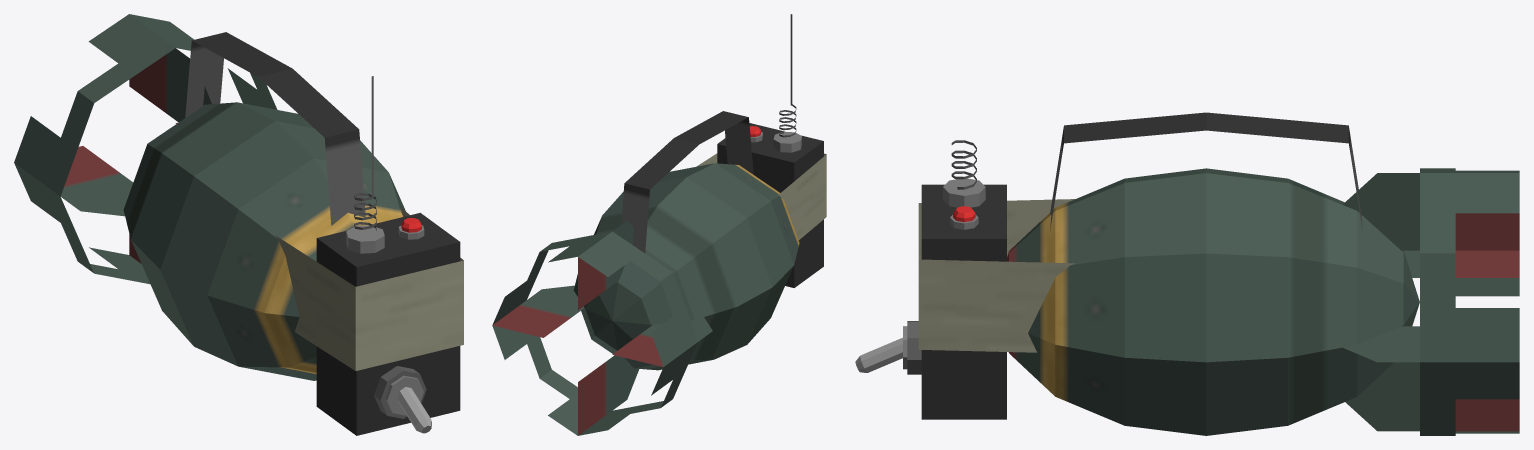
File: mine_fat.obj
3 renders of one model, left to right at view 1: azimuth 30°, elevation 25°; view 2: azimuth 150°, elevation 25°; view 3: azimuth 270°, elevation 25°, orthographic. The views are drawn at different scales.
Visible parts, largest first — view 1: Sphere; view 2: Sphere; view 3: Sphere.
Boxes of the visible parts, bbox=[...] form: Sphere: bbox=[14, 14, 463, 435]; Sphere: bbox=[492, 14, 826, 435]; Sphere: bbox=[855, 112, 1519, 435].
Bounding box in the file's own units: 1 × 1.57 × 2.33.
